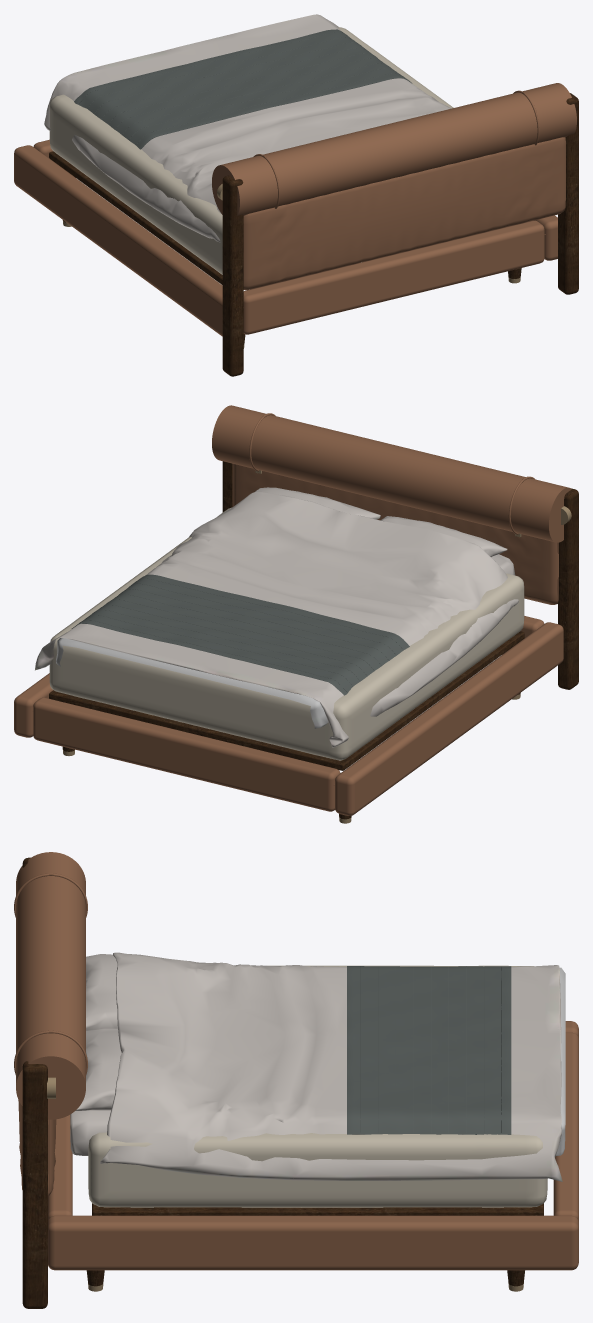
The model's file is atelier-saddle-bed.glb.
The picture shows the model from 3 angles, top to bottom: view 1: azimuth 30°, elevation 25°; view 2: azimuth 150°, elevation 25°; view 3: azimuth 270°, elevation 25°; orthographic projection. The views are drawn at different scales.
Parts seen in each view (by area): view 1: leather_surfaces, heritage_linen_surfaces, charcoal_surfaces, linen_surfaces, walnut_surfaces; view 2: leather_surfaces, heritage_linen_surfaces, linen_surfaces, charcoal_surfaces, walnut_surfaces; view 3: heritage_linen_surfaces, leather_surfaces, charcoal_surfaces, linen_surfaces, walnut_surfaces.
Boxes of the visible parts, x1,y1,x2,y2 form: leather_surfaces: [14, 83, 576, 336]; heritage_linen_surfaces: [44, 14, 450, 242]; charcoal_surfaces: [74, 29, 412, 149]; linen_surfaces: [49, 27, 453, 274]; walnut_surfaces: [49, 93, 578, 376]; leather_surfaces: [14, 405, 571, 815]; heritage_linen_surfaces: [35, 487, 518, 747]; linen_surfaces: [49, 507, 524, 760]; charcoal_surfaces: [71, 574, 409, 695]; walnut_surfaces: [49, 461, 578, 819]; heritage_linen_surfaces: [70, 952, 565, 1181]; leather_surfaces: [14, 852, 578, 1270]; charcoal_surfaces: [347, 966, 511, 1134]; linen_surfaces: [88, 965, 547, 1207]; walnut_surfaces: [22, 857, 543, 1308].
Size of the model in its own units: 2.08 by 1.16 by 2.34.
6 materials, 2 textured.
